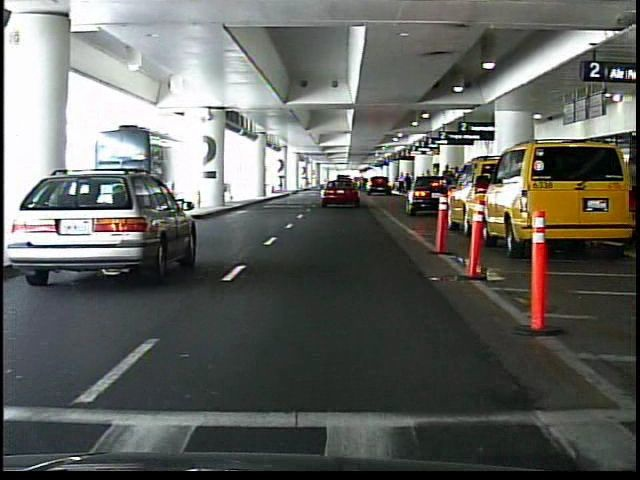person: (440, 161, 456, 211), (397, 173, 407, 194), (405, 173, 413, 195)
